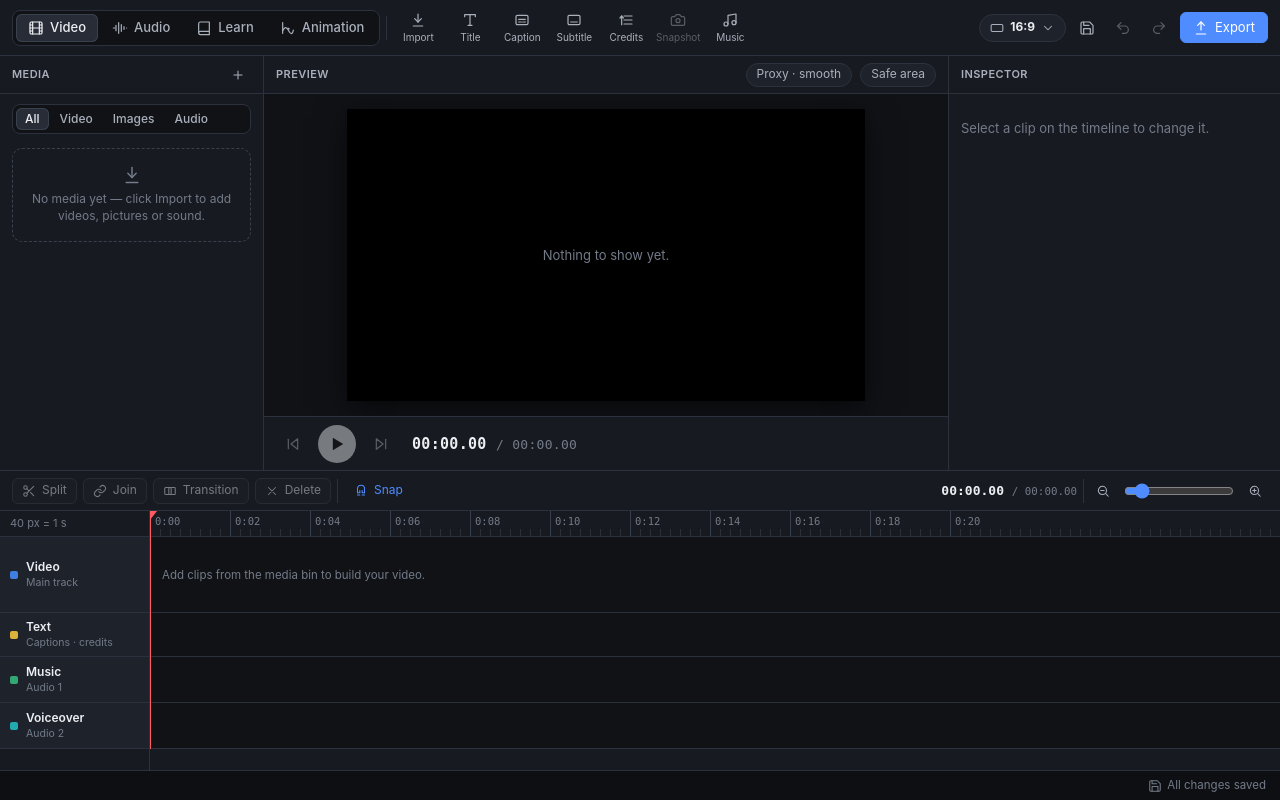
Scenario: play and loop (AN8) › Loop keeps it playing past the end; a range can be typed
Click the button "Animation" at {"x": 322, "y": 28}, box [268,14,376,42]
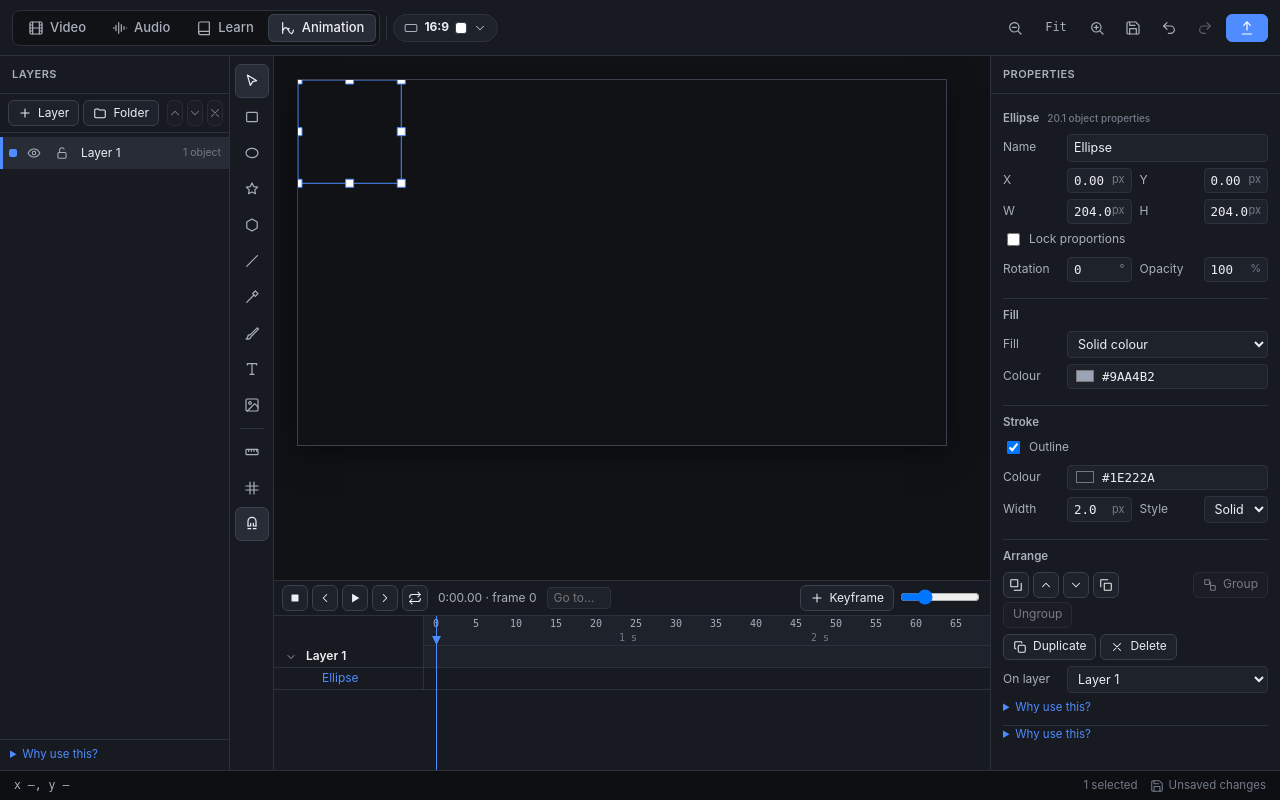
Click the button named "Loop" at {"x": 415, "y": 598}, box [402,585,428,611]
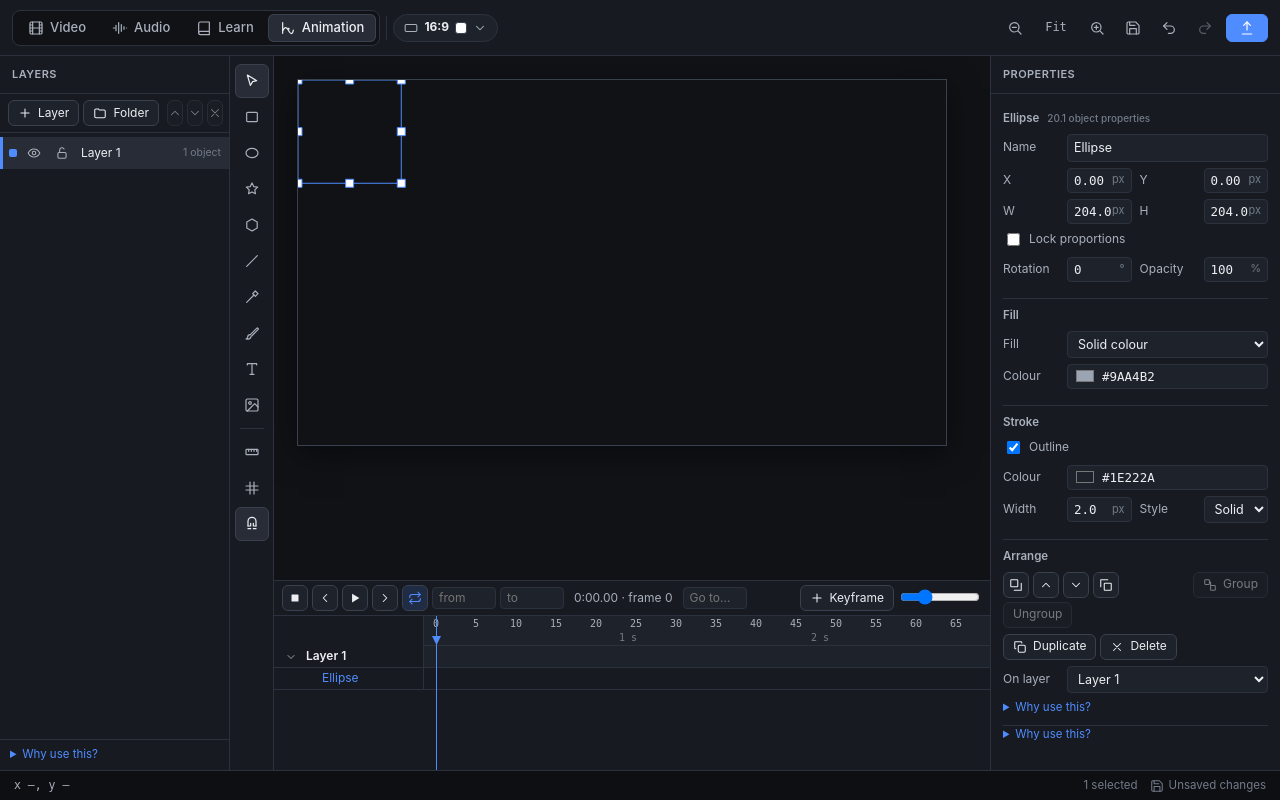
Now the button named "Loop" is pressed, box [402,585,428,611]
Click the button named "Play" at {"x": 355, "y": 598}, box [342,585,368,611]
Wait 5500 ms
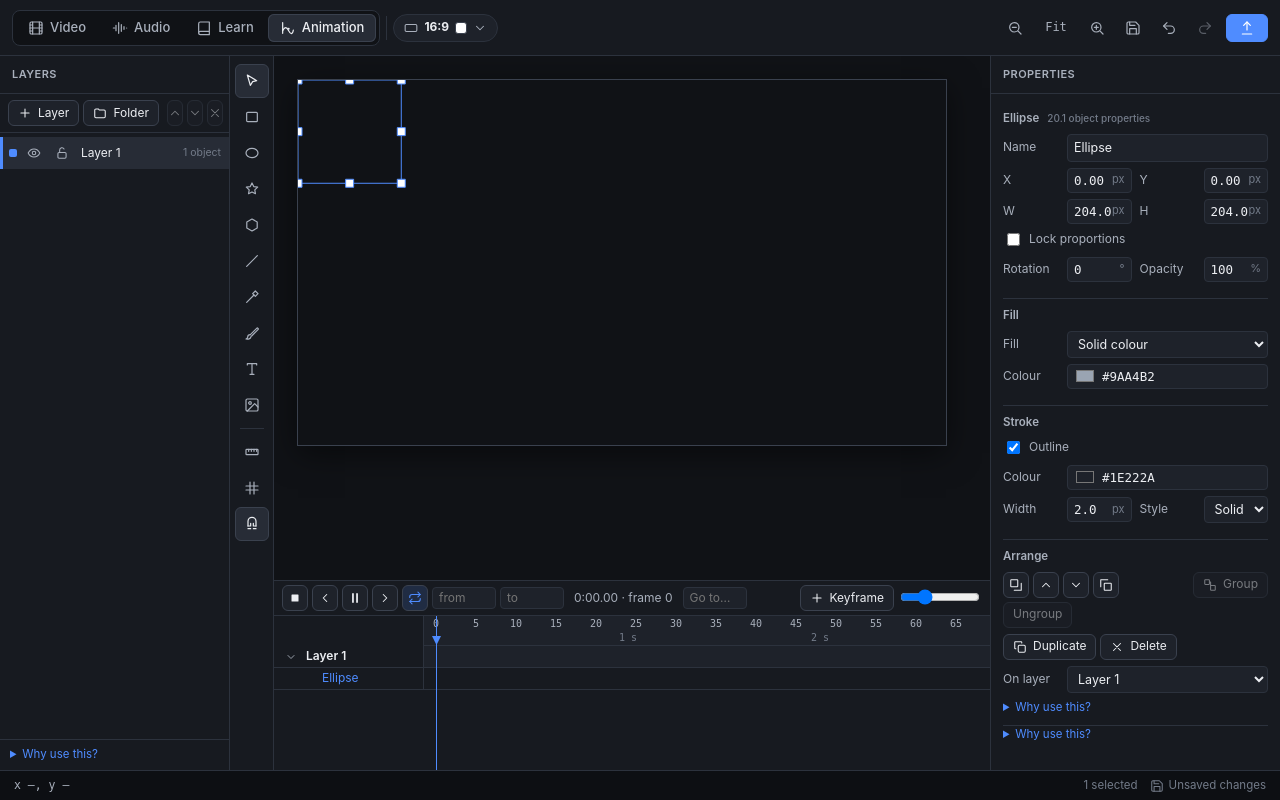
Type "24" into the field named "Loop from" at {"x": 464, "y": 598}, box [432,587,496,609]
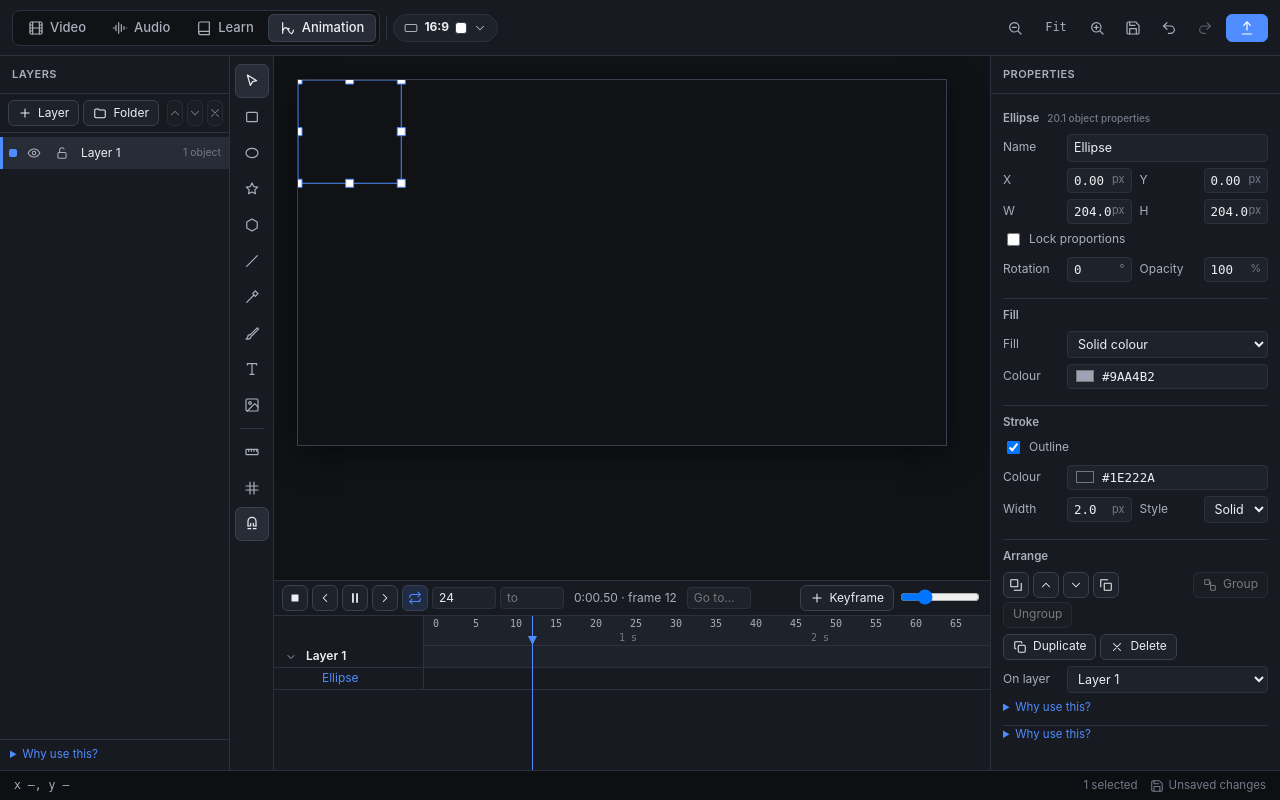
Type "47" into the field named "Loop to" at {"x": 532, "y": 598}, box [500,587,564,609]
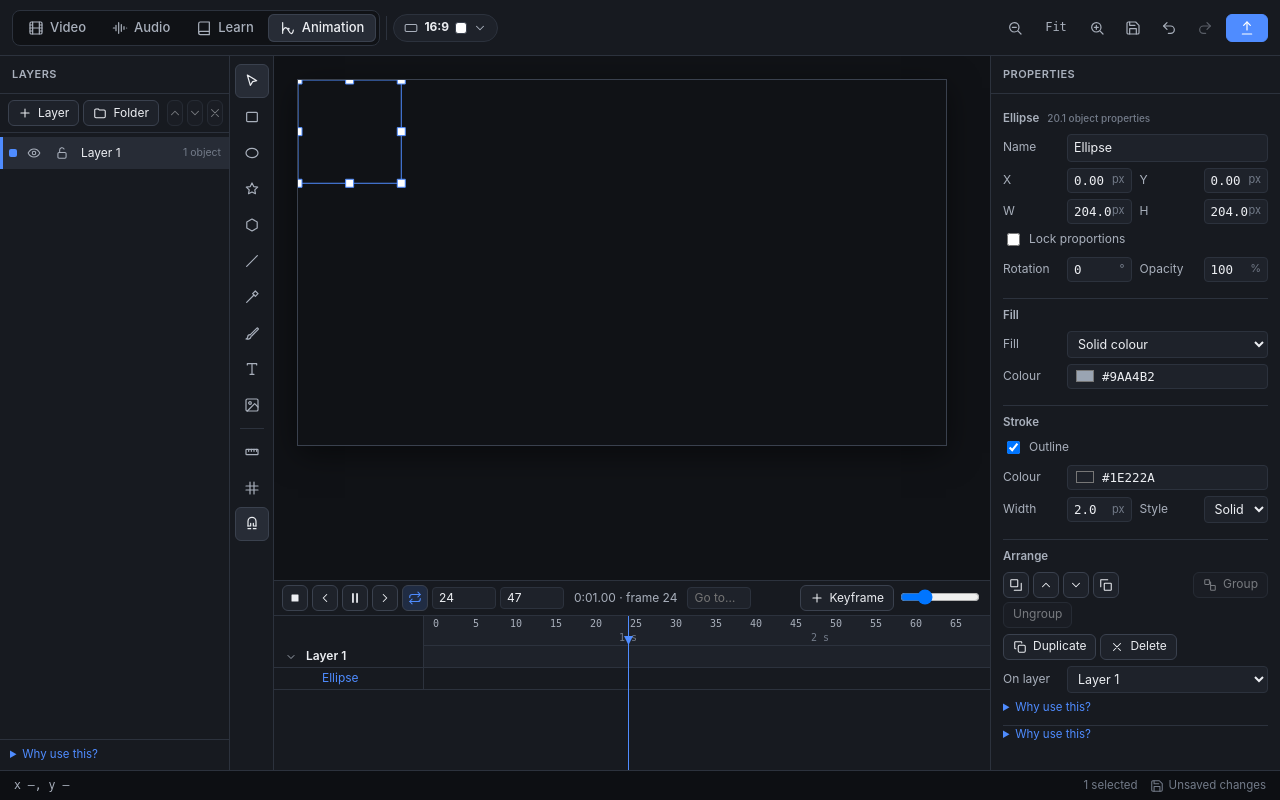
Replace the text in the field named "Loop to" with "10" at {"x": 532, "y": 598}, box [500,587,564,609]
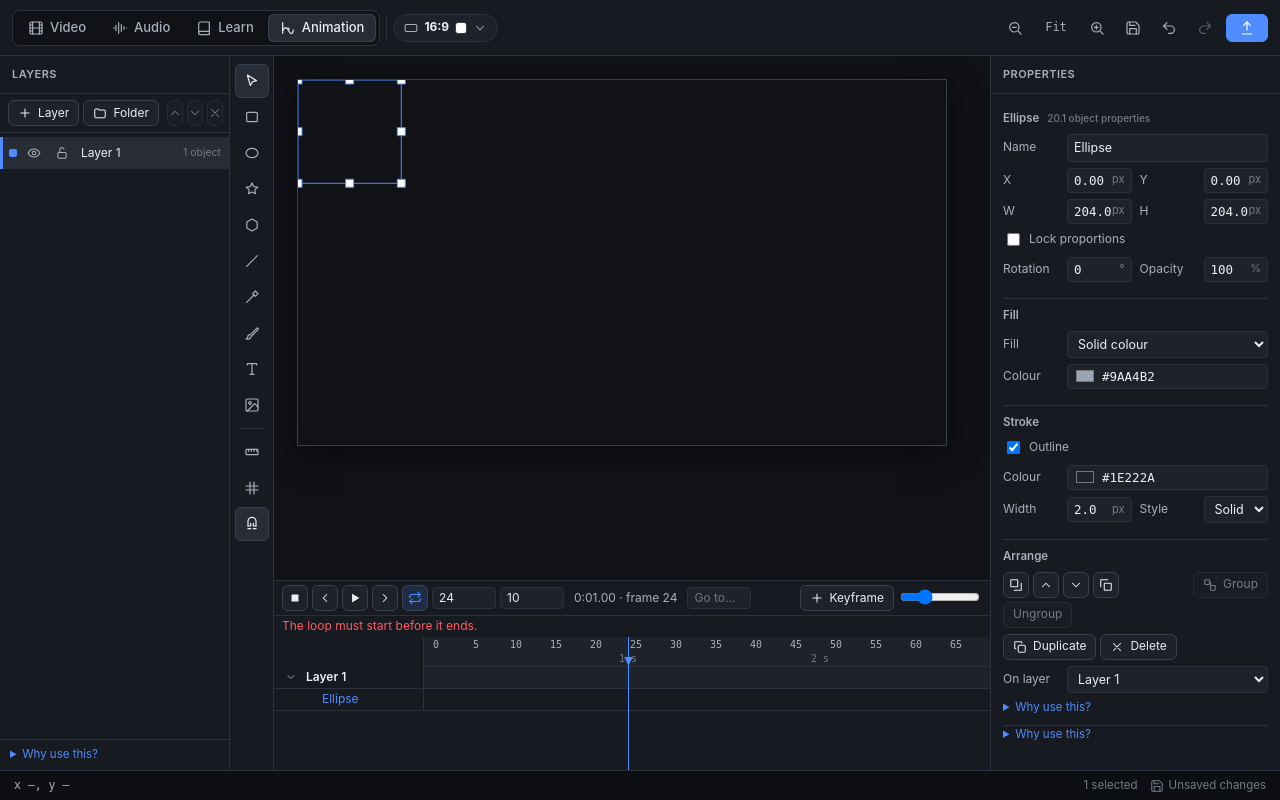
Now the message shows "before", box [282,618,477,633]
